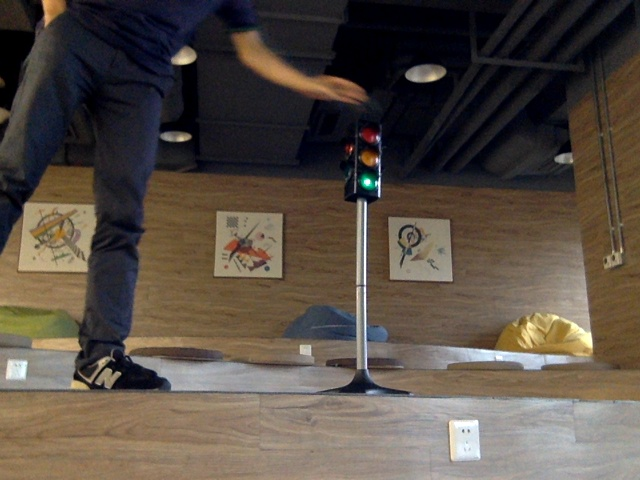green: (352, 128, 379, 189)
